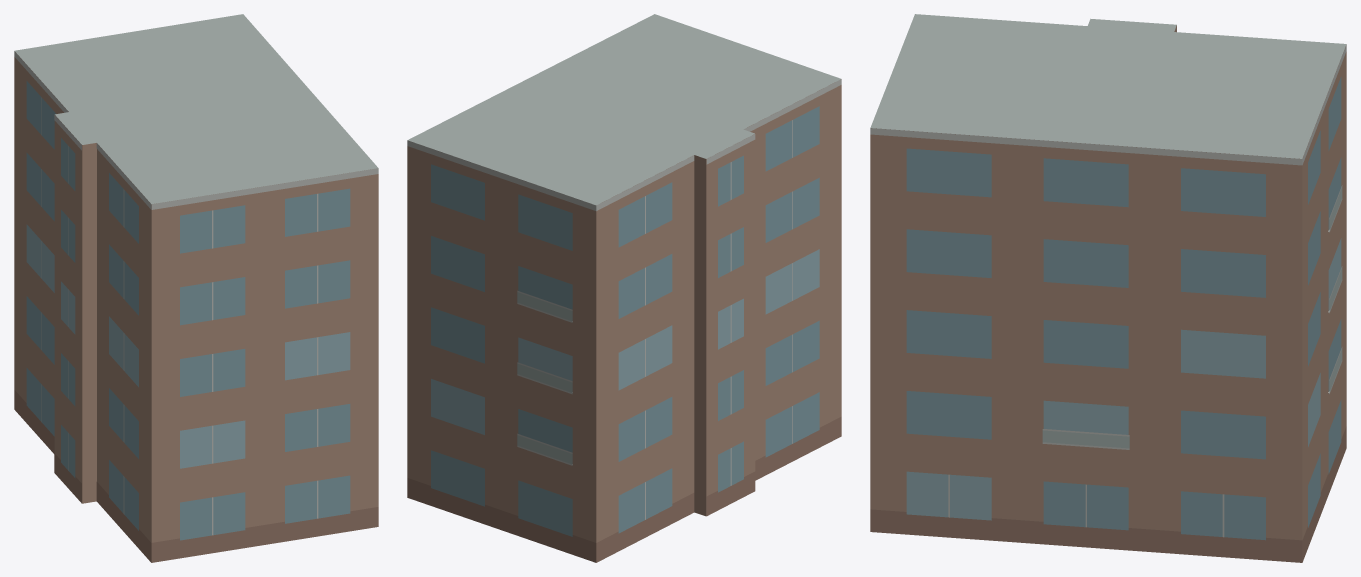
The model's file is survey-upis-32689259.glb.
The picture shows the model from 3 angles, left to right: view 1: azimuth 30°, elevation 25°; view 2: azimuth 150°, elevation 25°; view 3: azimuth 270°, elevation 25°; orthographic projection. The views are drawn at different scales.
Parts seen in each view (by area): view 1: survey-upis-32689259.tmp; view 2: survey-upis-32689259.tmp; view 3: survey-upis-32689259.tmp.
Part boxes in pixels (bbox=[...]): survey-upis-32689259.tmp: bbox=[14, 14, 378, 562]; survey-upis-32689259.tmp: bbox=[407, 14, 841, 562]; survey-upis-32689259.tmp: bbox=[870, 14, 1346, 562].
Size of the model in its own units: 11.62 by 15.09 by 16.14.
